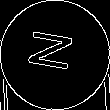N_E: (27, 31, 83, 79)
